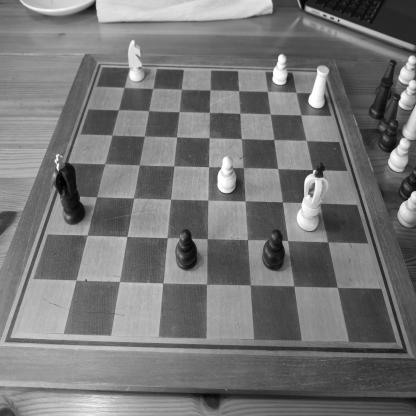black-bishop: (377, 93, 401, 134), (375, 60, 397, 100)
black-king: (52, 154, 85, 225)
black-pawn: (262, 228, 285, 271), (175, 229, 198, 270), (378, 119, 399, 154), (398, 167, 416, 201)
black-rook: (368, 77, 393, 120)
white-king: (296, 162, 329, 233)
white-knight: (127, 39, 146, 83)
white-pawn: (387, 138, 411, 174), (217, 155, 237, 194), (397, 190, 415, 229), (398, 79, 415, 112), (398, 54, 415, 86), (272, 54, 288, 86)
white-rook: (308, 65, 330, 109)
